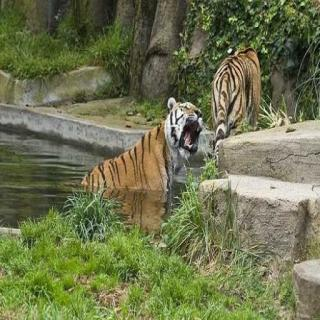Tiger: (84, 89, 200, 236), (200, 22, 270, 146)
